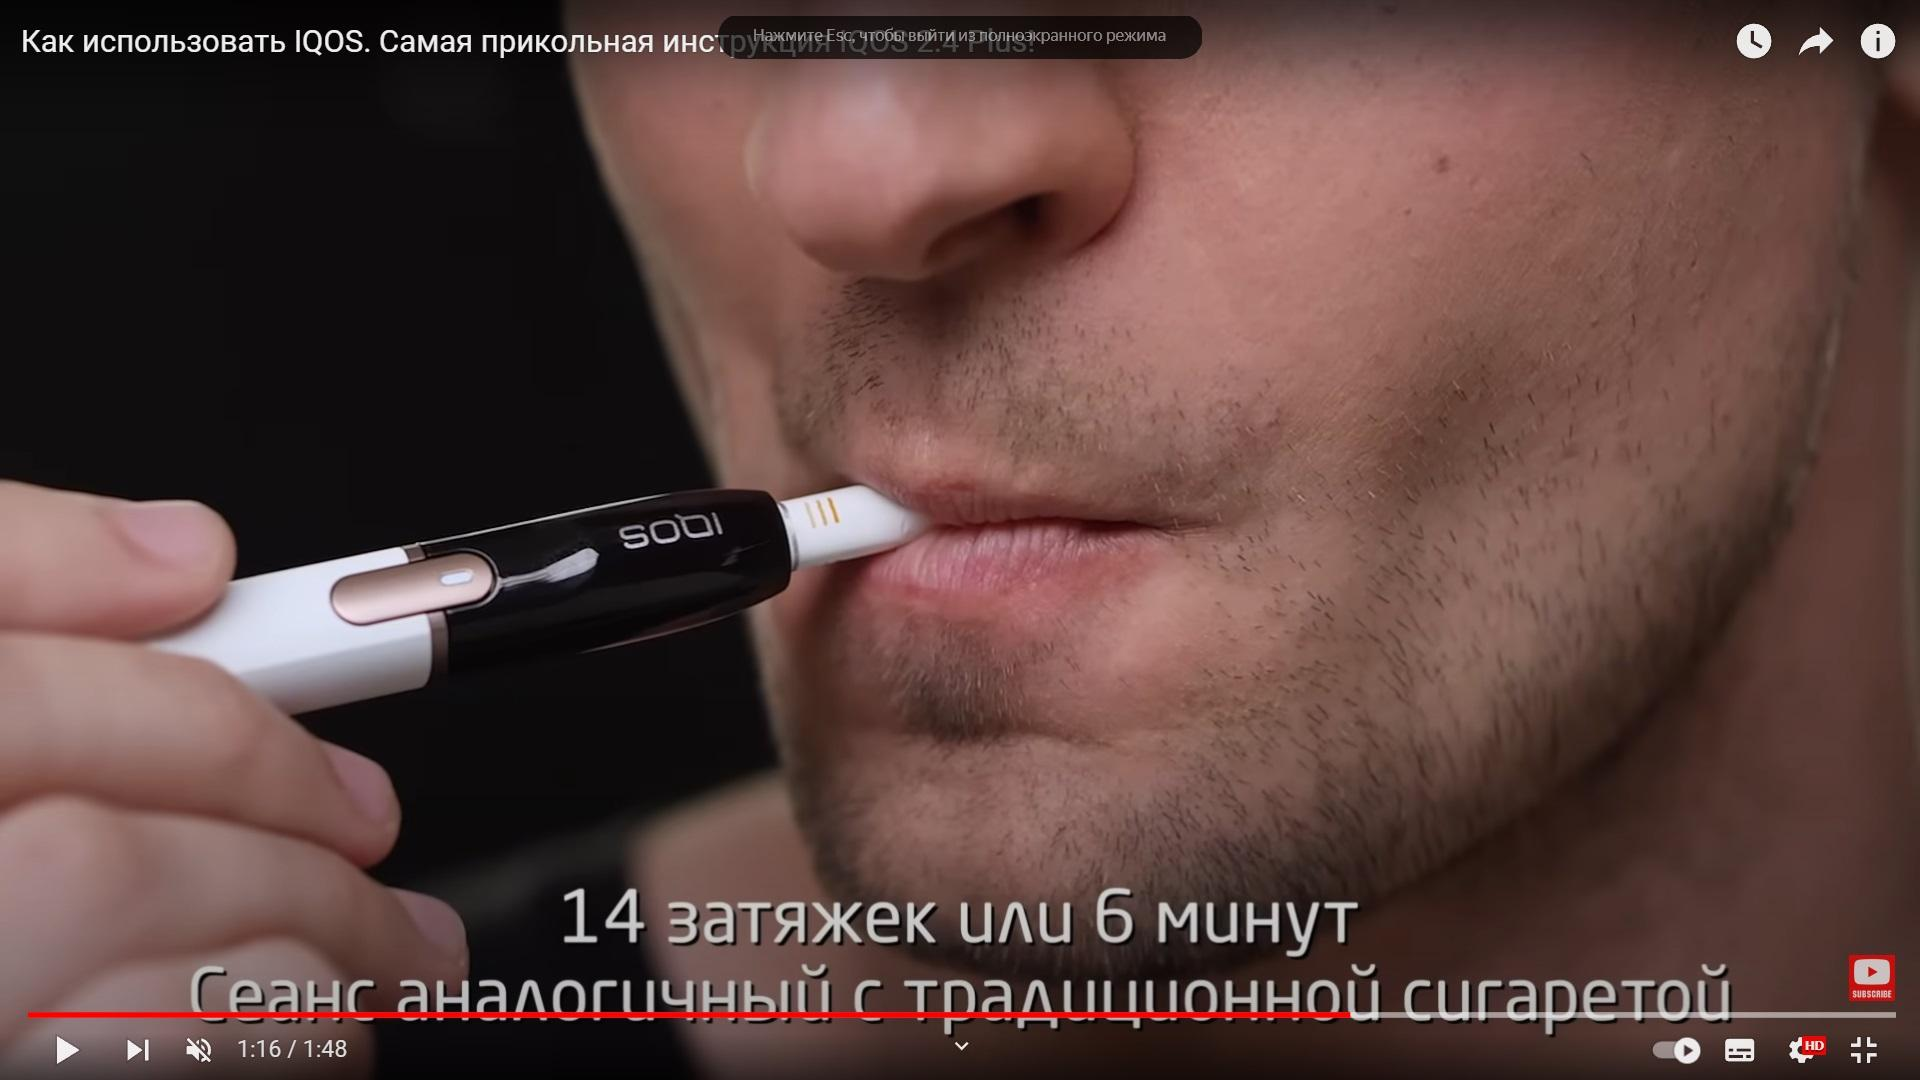iqos: (156, 487, 927, 711)
